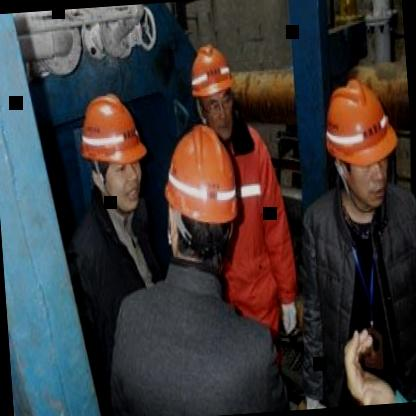helmet: (153, 132, 250, 282), (318, 76, 404, 214), (75, 86, 154, 214), (188, 42, 238, 134)
